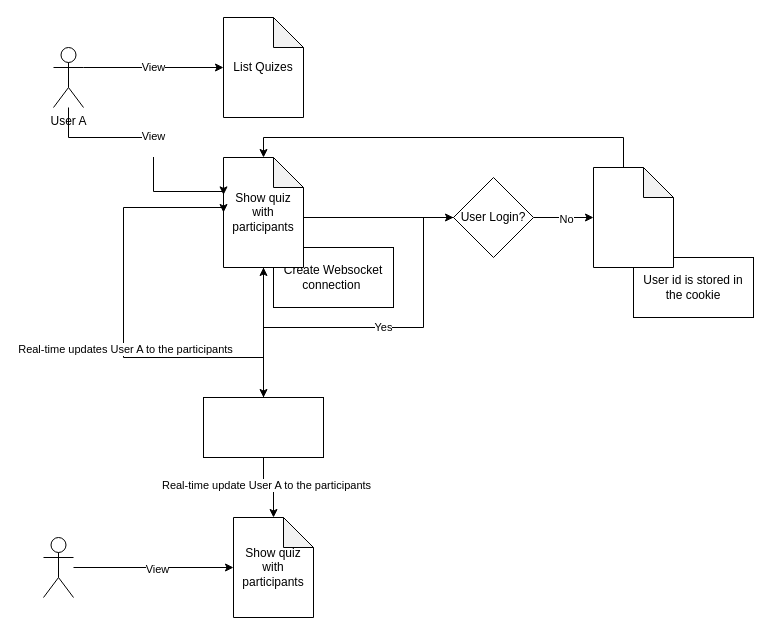
This 771x636 diagram has some shape labels left out. Here are the shapes that lost their labels. From the top down, the centre of each, then its label:
At (x=633, y=217): "Login page (mock page)".
At (x=263, y=427): "Join Quiz".
At (x=58, y=567): "User B".
